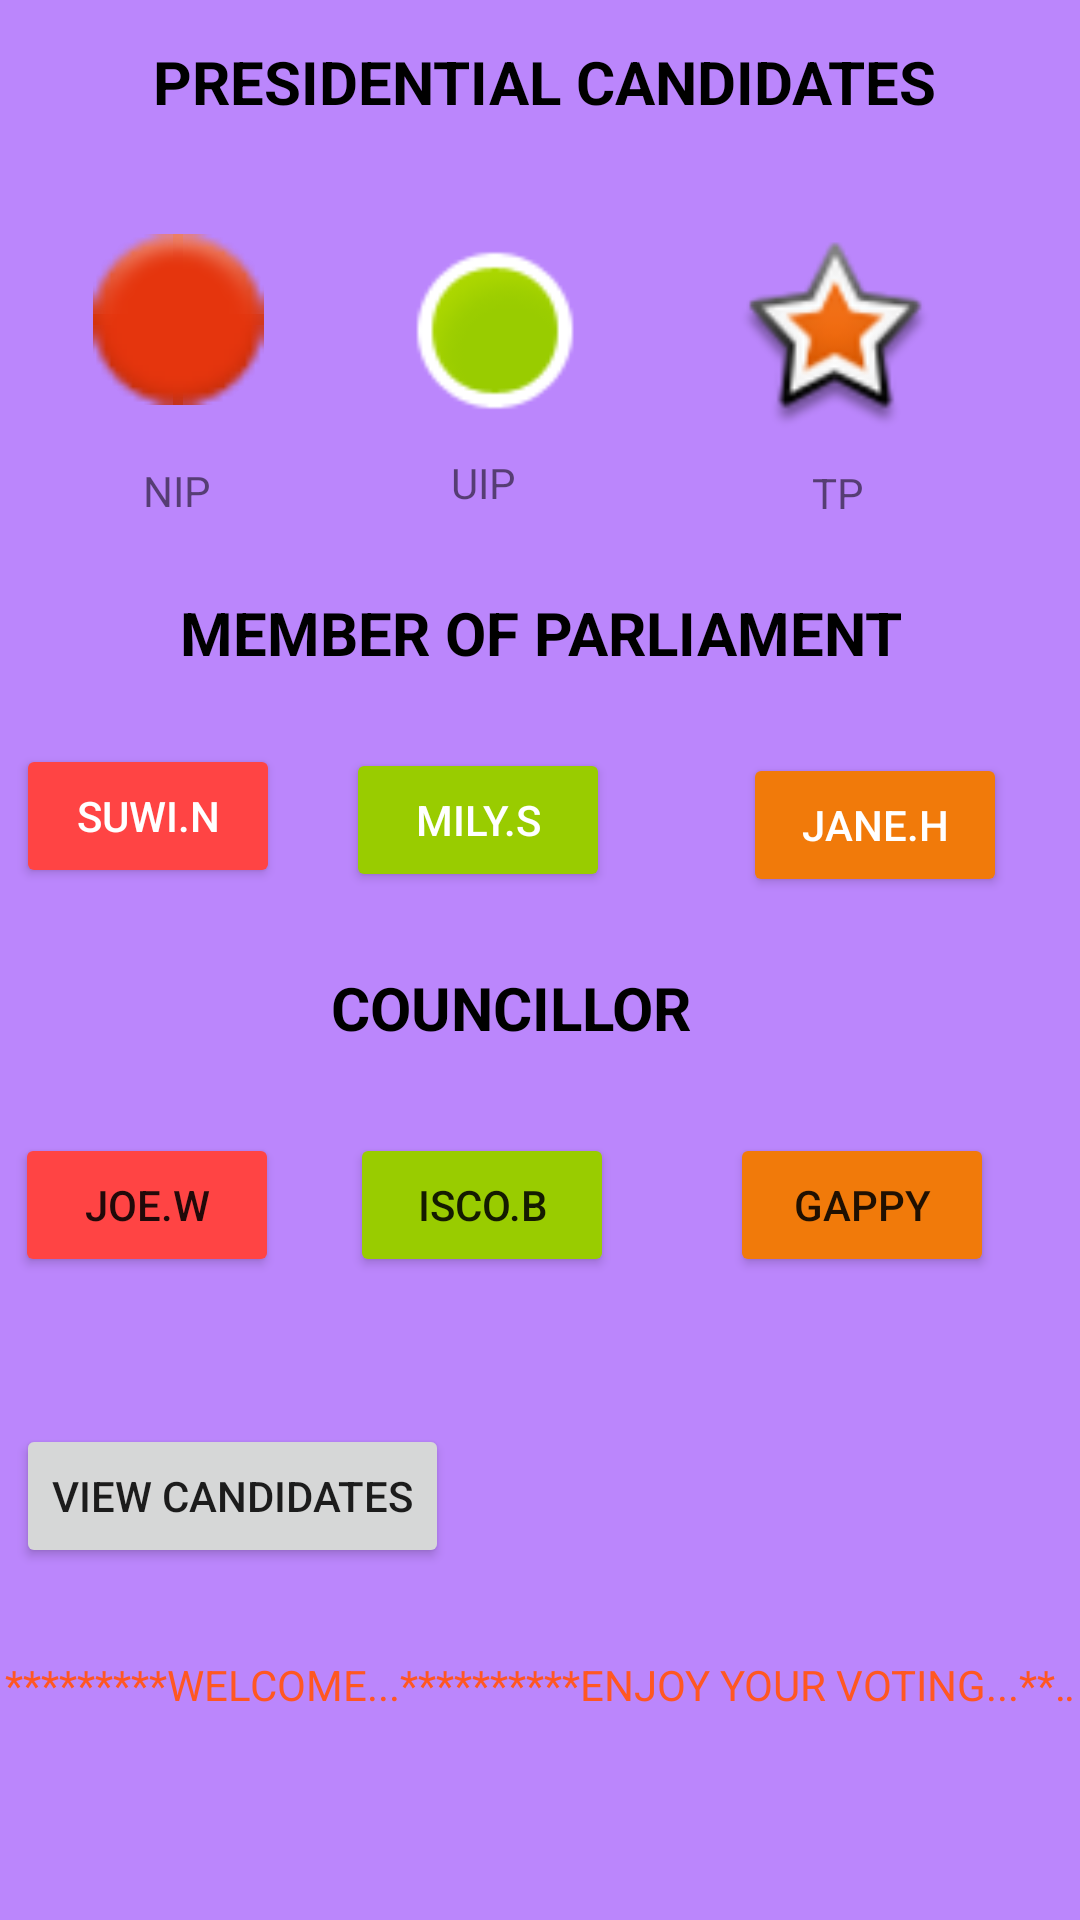

Icons on this 1080x1920 Android screen, each with the point to tap as point (x, y):
presence online: point (495, 330)
star on: point (835, 330)
